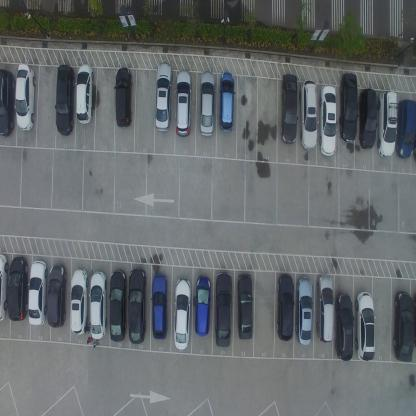car: (393, 290, 415, 364), (355, 290, 376, 363), (14, 63, 36, 131), (55, 63, 75, 137), (298, 79, 318, 152), (377, 89, 398, 158), (7, 255, 28, 322), (128, 268, 146, 346), (335, 292, 354, 362), (47, 263, 67, 329), (109, 269, 127, 342), (215, 271, 232, 348), (340, 72, 358, 144), (295, 275, 313, 347), (89, 269, 107, 341), (174, 278, 192, 349), (316, 273, 334, 344), (154, 62, 172, 132), (70, 266, 88, 336), (281, 70, 298, 144), (28, 260, 47, 326), (174, 69, 192, 138), (358, 87, 377, 150), (277, 273, 294, 342), (199, 71, 216, 137), (236, 272, 252, 342), (320, 85, 336, 155), (76, 64, 94, 126), (194, 275, 212, 336), (151, 272, 167, 340), (398, 99, 416, 159), (115, 66, 132, 129), (218, 70, 235, 132), (0, 69, 15, 138), (0, 254, 8, 323)
